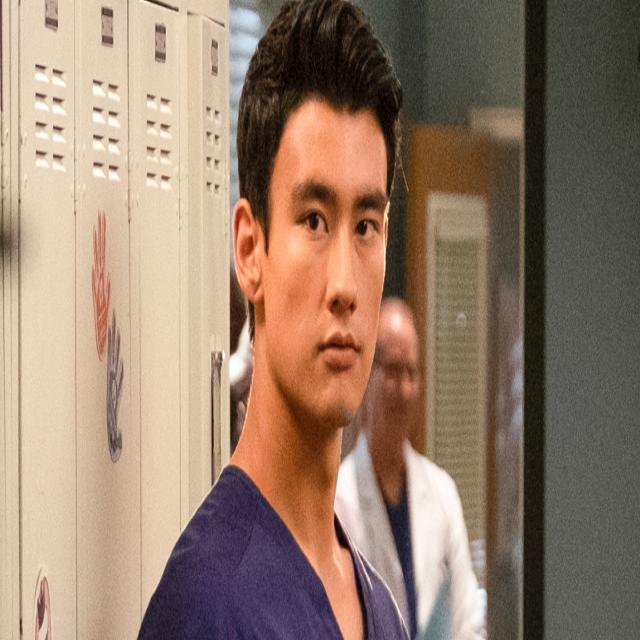human: (137, 2, 416, 640)
